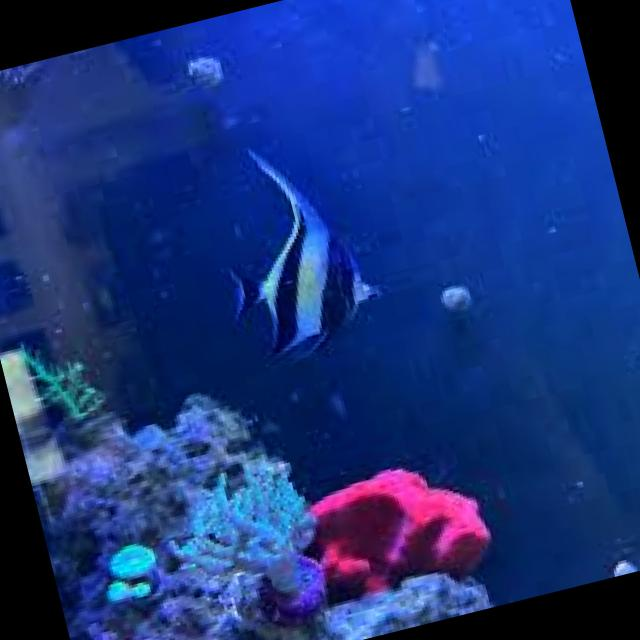MorishIdol: (187, 120, 397, 378)
